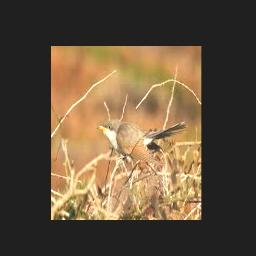Cuckoo: (96, 120, 186, 162)
